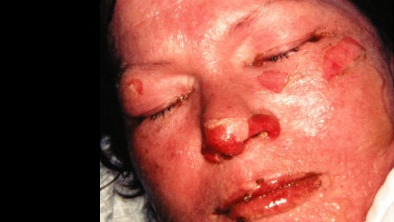SJS-TEN: (182, 91, 286, 176), (206, 166, 336, 222), (309, 27, 375, 88), (255, 59, 299, 99), (117, 69, 152, 100)
